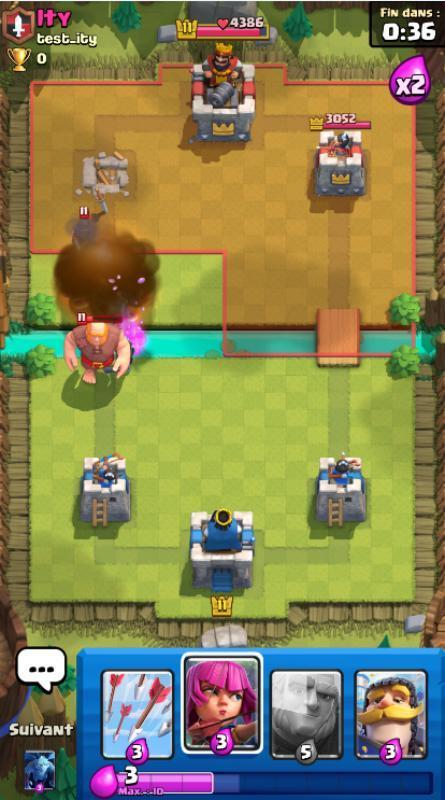enemy_fireball: (43, 230, 165, 326)
enemy_giant: (60, 315, 134, 388)
